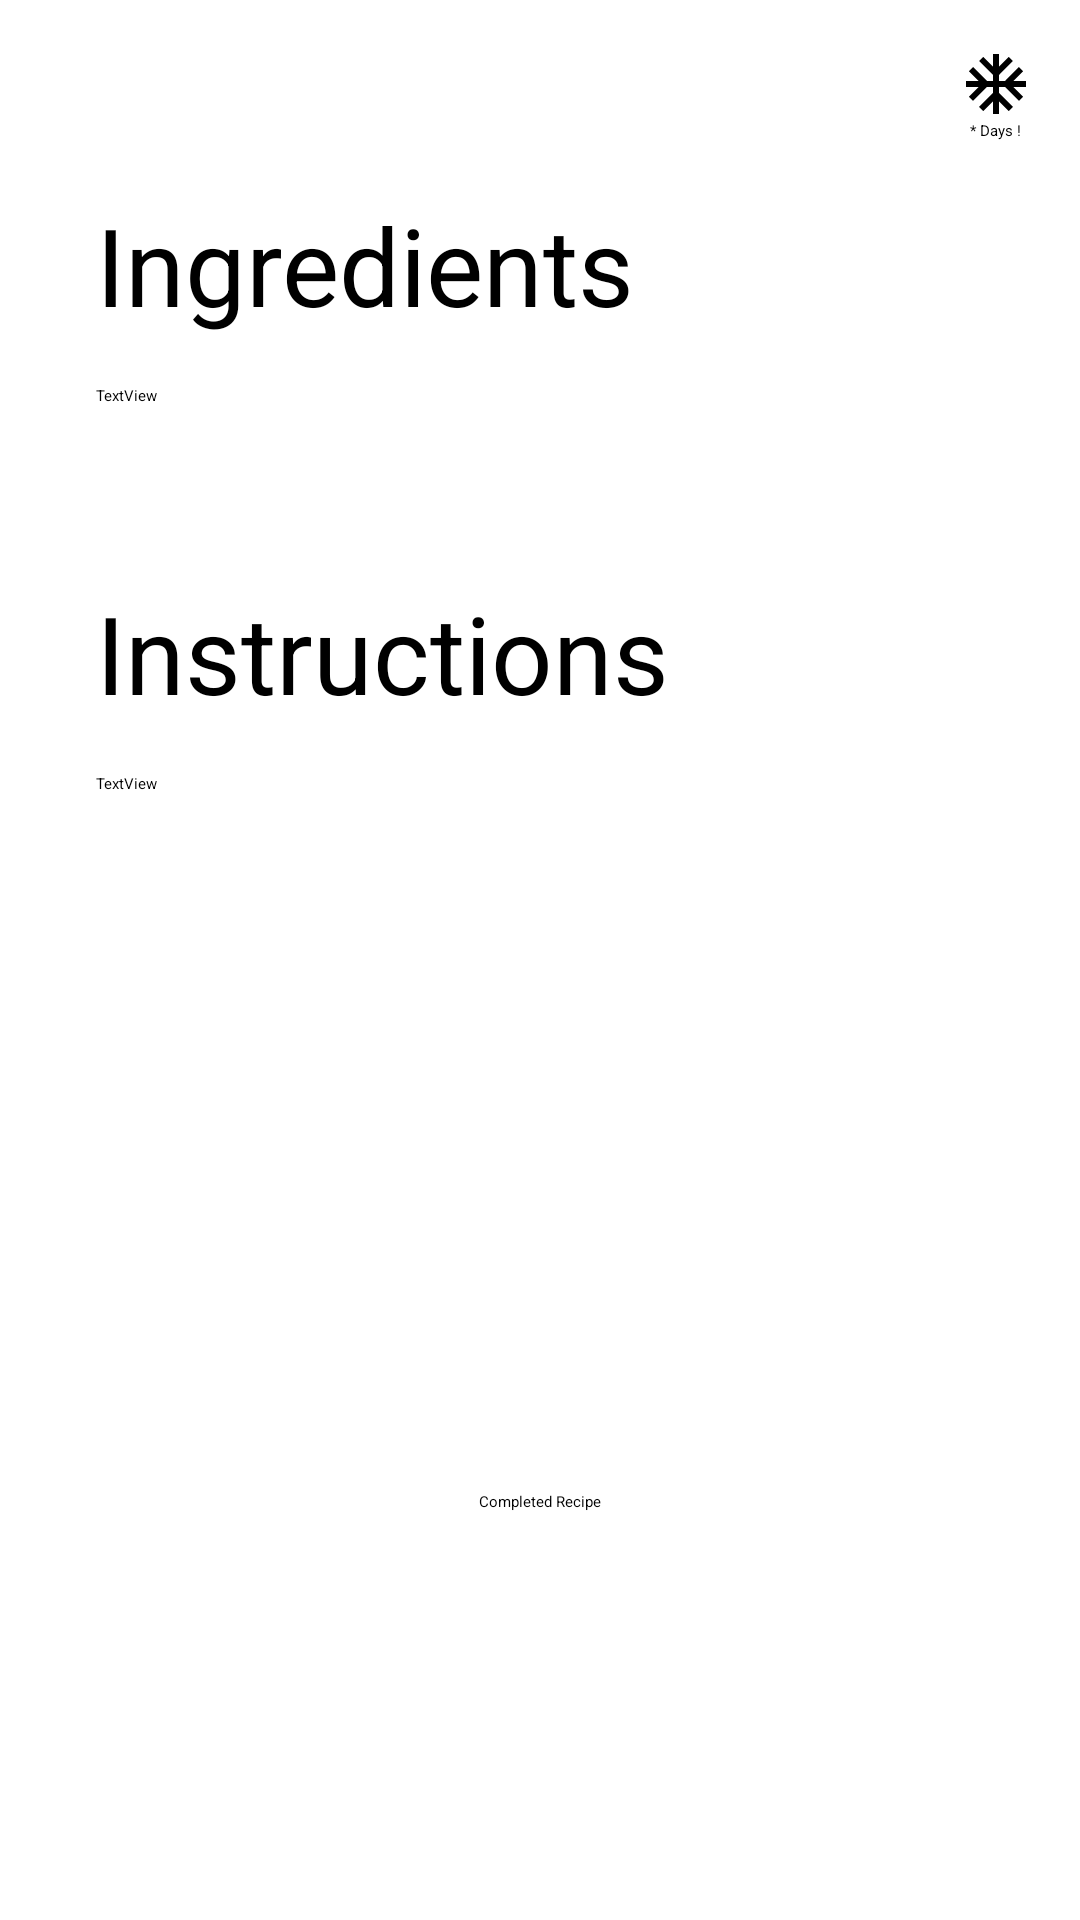

Where icons sit on this 1080*1920 app screen, as (x1, y1, x2, y2):
ac unit: (966, 54, 1026, 114)
